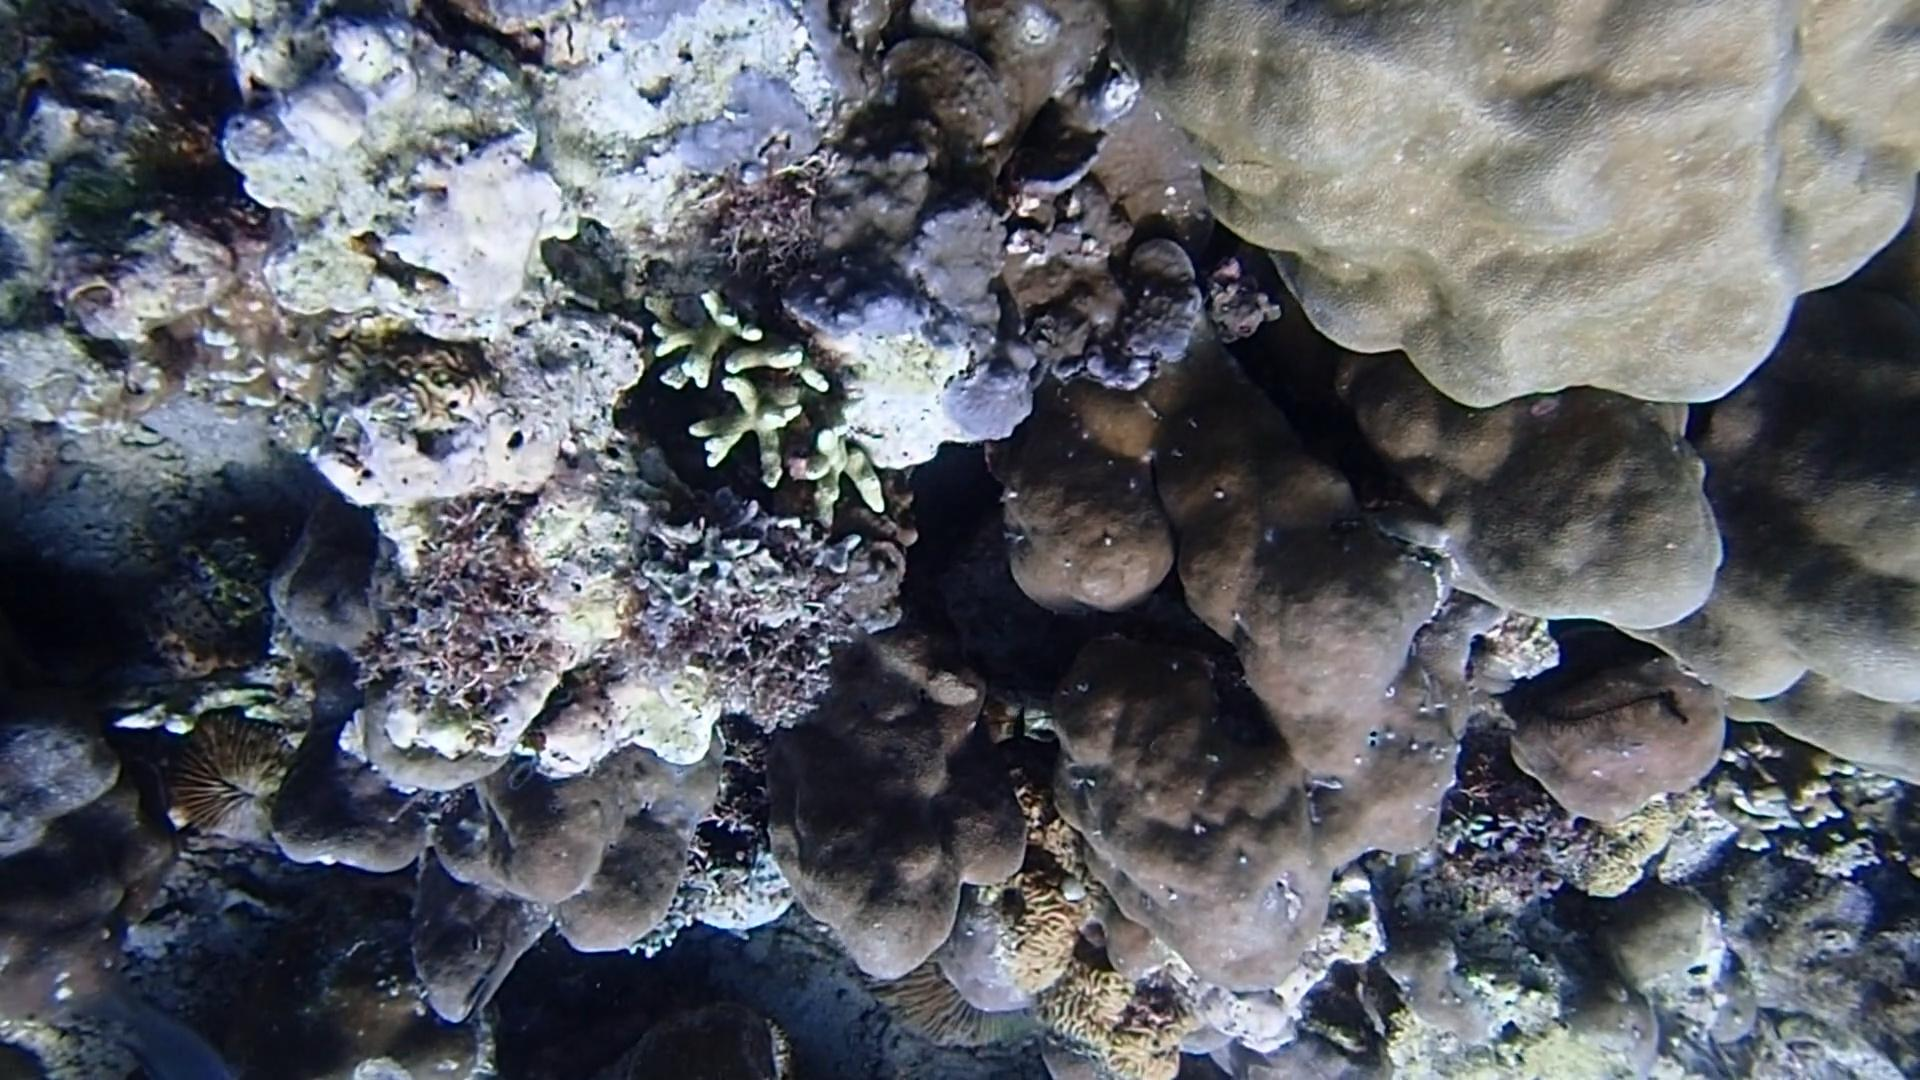Blue Fish Two: (75, 975, 241, 1080)
